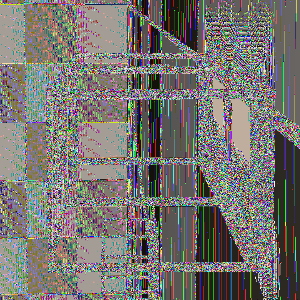Rack: (23, 26, 255, 248)
